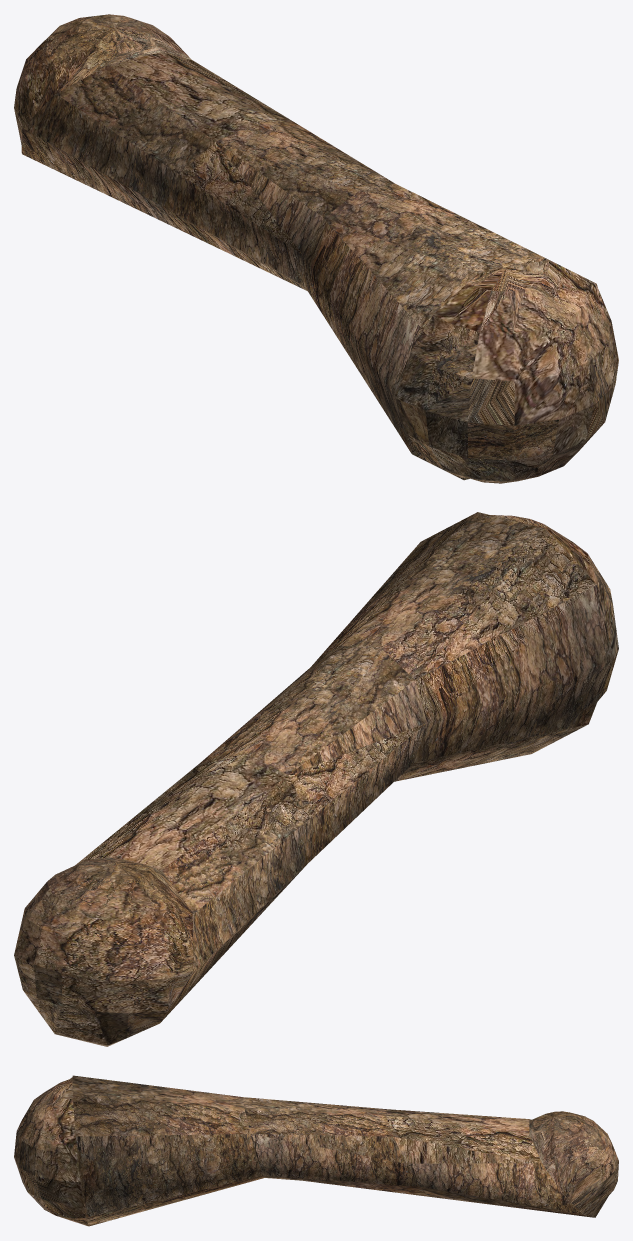
Rendered from upperarm_v2.glb.
The picture shows the model from 3 angles, top to bottom: view 1: azimuth 30°, elevation 25°; view 2: azimuth 150°, elevation 25°; view 3: azimuth 270°, elevation 25°; orthographic projection. The views are drawn at different scales.
Visible parts, largest first — view 1: Sphere; view 2: Sphere; view 3: Sphere.
Boxes of the visible parts, box(x1,y1,x2,y2) form: Sphere: box(14, 14, 618, 483); Sphere: box(14, 512, 618, 1046); Sphere: box(14, 1075, 618, 1226).
Size of what is drawn, in the model's own units: 2.72 by 2.57 by 10.76.
Materials: 1 (1 with a texture image).
